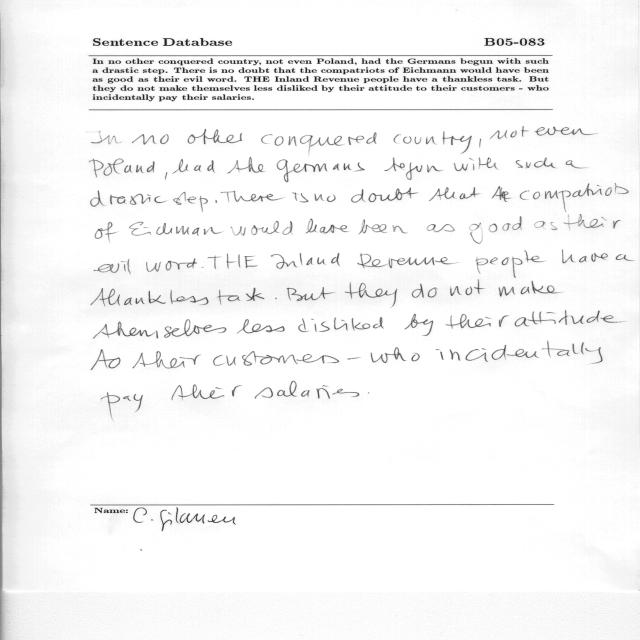word: (436, 341, 603, 364), (520, 184, 629, 213), (94, 319, 227, 339), (261, 132, 376, 153), (91, 288, 209, 307), (276, 160, 365, 183), (475, 250, 545, 278), (213, 351, 339, 366), (393, 132, 472, 154), (514, 311, 622, 327), (357, 254, 459, 269), (470, 216, 522, 244), (254, 381, 330, 399), (129, 222, 223, 236), (345, 282, 397, 307), (384, 158, 443, 180), (91, 190, 167, 207), (298, 317, 384, 332), (90, 159, 155, 178), (133, 351, 201, 369), (172, 385, 242, 401), (271, 253, 340, 269), (351, 188, 419, 203), (101, 392, 143, 416), (445, 314, 509, 329), (231, 221, 293, 236), (498, 281, 560, 296), (217, 288, 265, 305), (563, 215, 621, 229), (188, 129, 242, 144), (370, 347, 420, 363), (208, 254, 257, 270), (358, 220, 408, 235), (236, 319, 285, 334), (429, 187, 480, 201), (146, 258, 197, 272), (173, 192, 208, 212), (221, 191, 284, 202), (305, 219, 349, 234), (227, 157, 265, 174), (172, 159, 215, 174), (287, 287, 333, 301), (454, 157, 499, 171), (91, 350, 121, 371), (405, 314, 433, 336), (562, 251, 608, 264), (94, 259, 131, 274), (534, 127, 595, 136), (450, 280, 484, 296), (490, 127, 529, 140), (516, 158, 556, 169), (92, 131, 122, 145), (95, 222, 117, 241), (132, 134, 169, 145), (412, 284, 438, 298), (492, 186, 511, 202), (427, 224, 455, 232), (333, 389, 360, 397), (535, 221, 558, 230), (314, 194, 336, 202), (292, 193, 309, 203), (566, 161, 584, 169), (616, 254, 634, 261), (347, 357, 360, 360), (479, 138, 481, 148), (165, 172, 167, 180), (215, 200, 217, 203), (202, 267, 204, 268), (275, 298, 277, 299)
